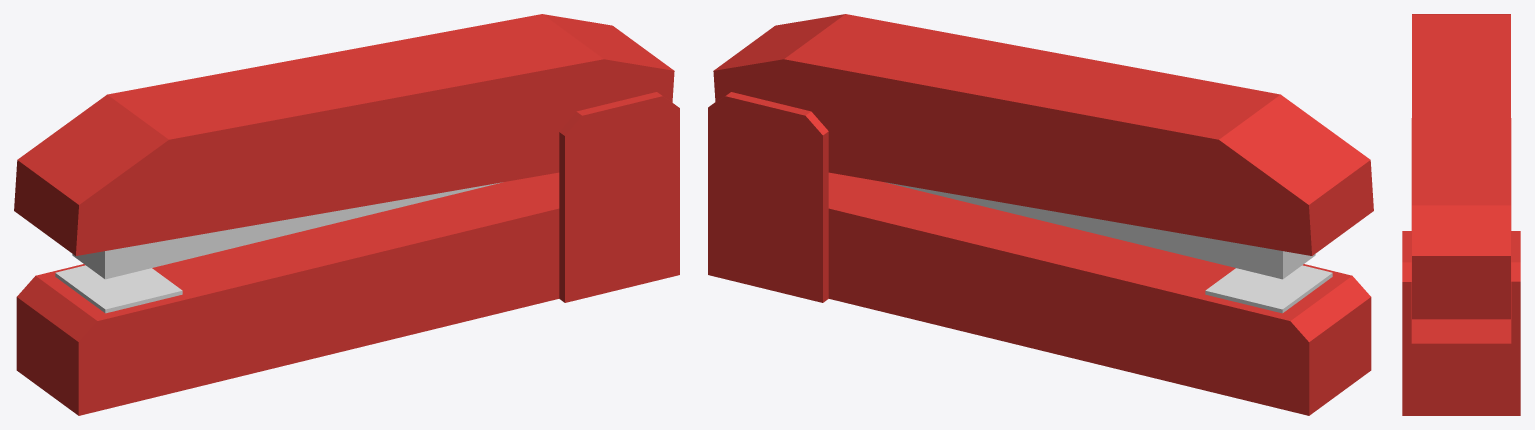
The model's file is Stapler.fbx.
3 renders of one model, left to right at view 1: azimuth 30°, elevation 25°; view 2: azimuth 150°, elevation 25°; view 3: azimuth 270°, elevation 25°, orthographic. The views are drawn at different scales.
Visible parts, largest first — view 1: Stalper; view 2: Stalper; view 3: Stalper.
Part boxes in pixels (x1,y1,x2,y2): Stalper: [14, 14, 679, 415]; Stalper: [708, 14, 1373, 415]; Stalper: [1402, 14, 1520, 415].
Size of the model in its own units: 173 by 36.89 by 70.1.
